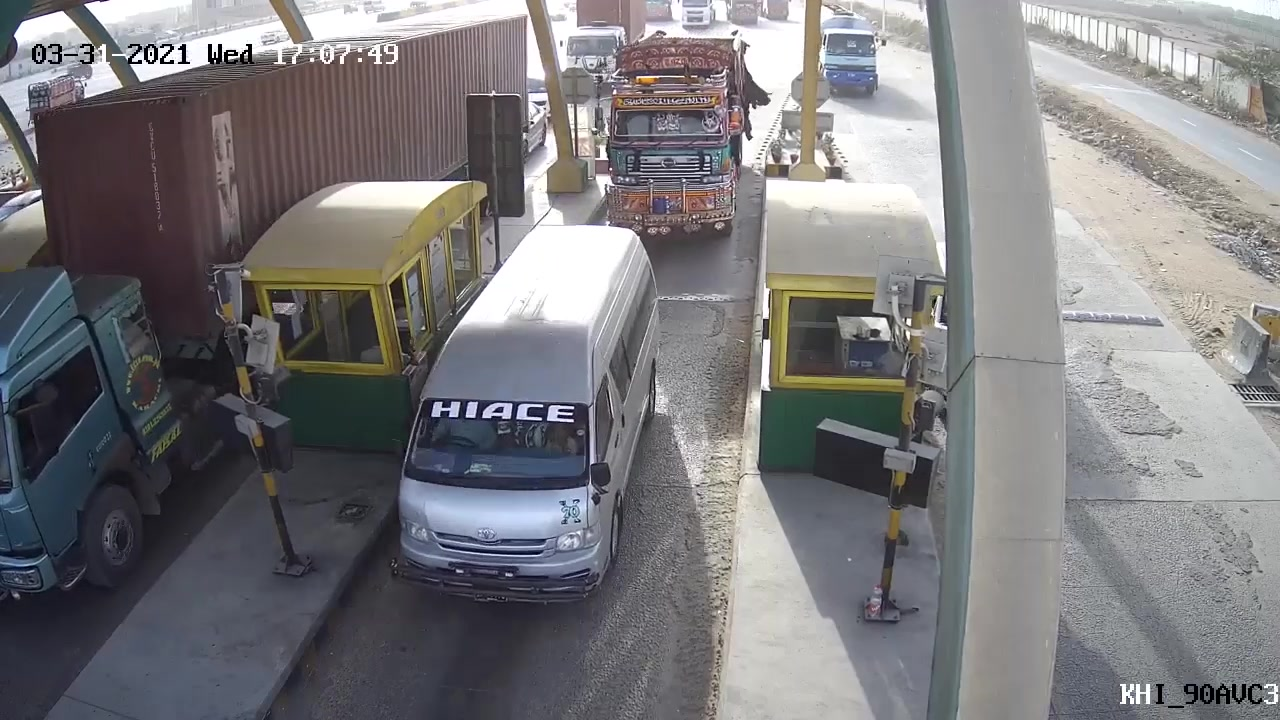F2: (388, 222, 667, 628)
F5: (592, 31, 768, 248)
